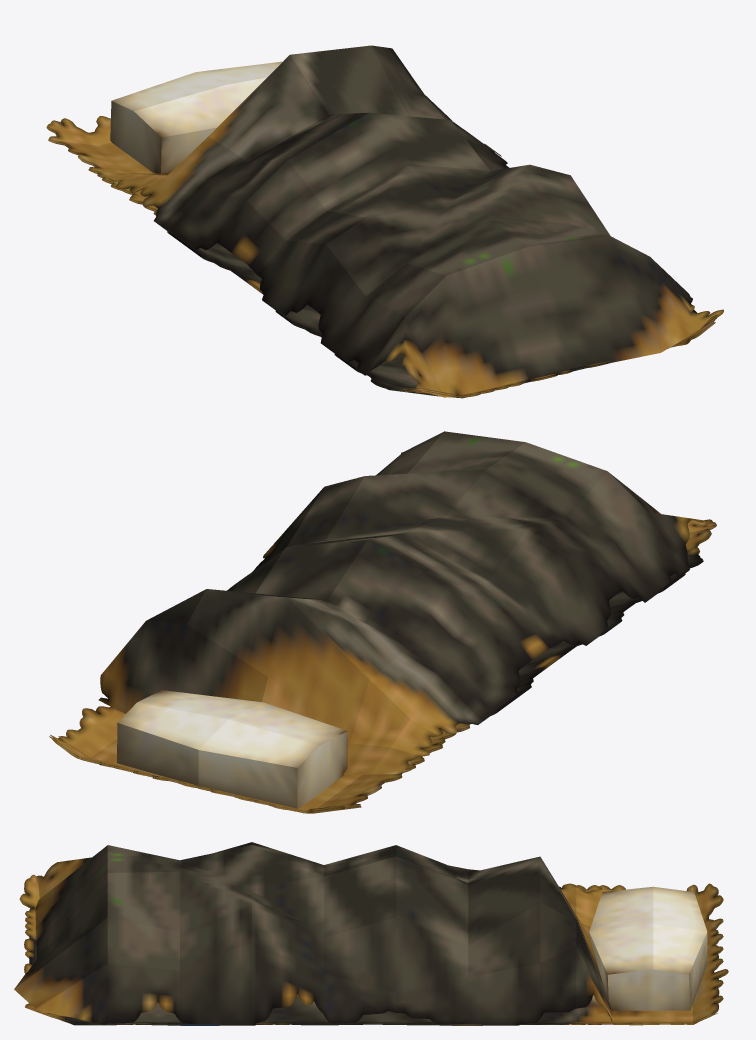
File: Inside_Poly_Bed_04_With_Blanket.obj
3 renders of one model, top to bottom at view 1: azimuth 30°, elevation 25°; view 2: azimuth 150°, elevation 25°; view 3: azimuth 270°, elevation 25°, orthographic. The views are drawn at different scales.
Parts seen in each view (by area): view 1: Cube, Plane.001, Plane; view 2: Cube, Plane.001, Plane; view 3: Cube, Plane.001, Plane.
Boxes of the visible parts, x1=… form: Cube: x1=97, y1=45, x2=723, y2=397; Plane.001: x1=110, y1=61, x2=282, y2=173; Plane: x1=46, y1=116, x2=717, y2=398; Cube: x1=98, y1=431, x2=715, y2=774; Plane.001: x1=117, y1=690, x2=347, y2=808; Plane: x1=49, y1=519, x2=716, y2=813; Cube: x1=14, y1=842, x2=612, y2=1025; Plane.001: x1=589, y1=886, x2=707, y2=1010; Plane: x1=19, y1=874, x2=728, y2=1025.
Bounding box in the file's own units: 0.8791 × 0.3275 × 1.86.
1 material, 1 textured.
